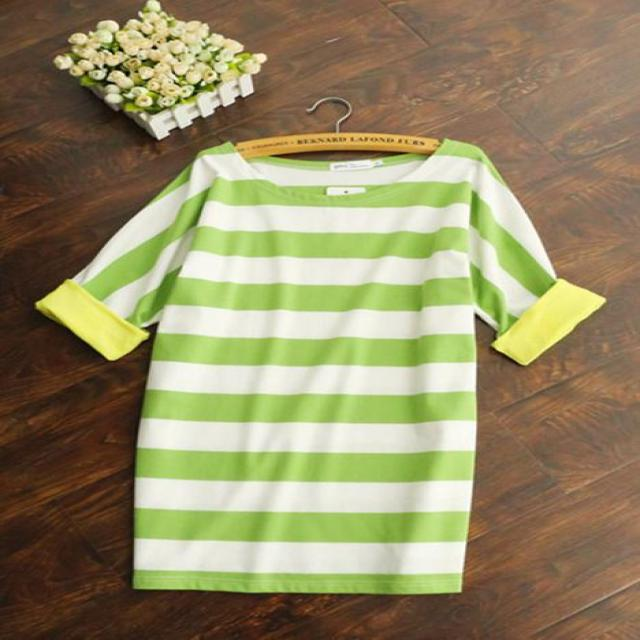short sleeve top: (40, 140, 603, 592)
